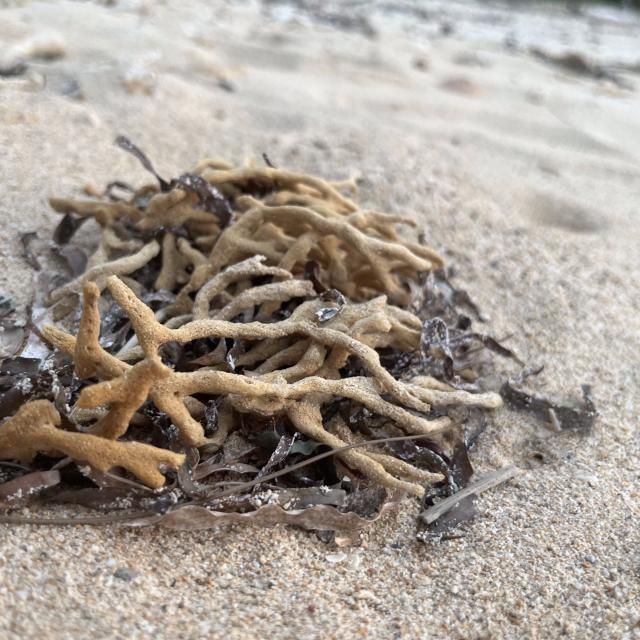coral: (0, 129, 510, 531)
